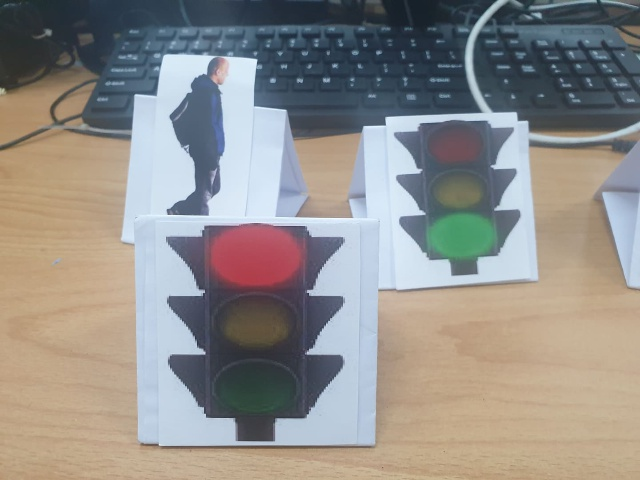Green: (391, 117, 524, 283)
Person: (153, 55, 244, 214)
Red: (161, 225, 355, 446)
